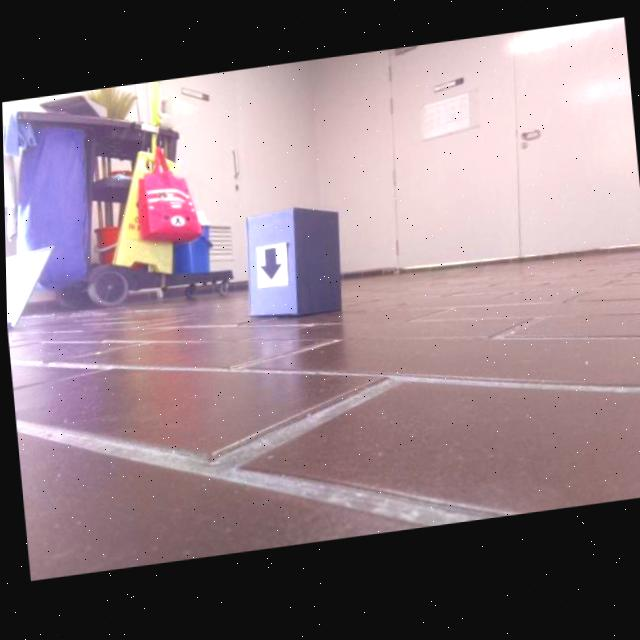DOWN: (258, 251, 281, 284)
